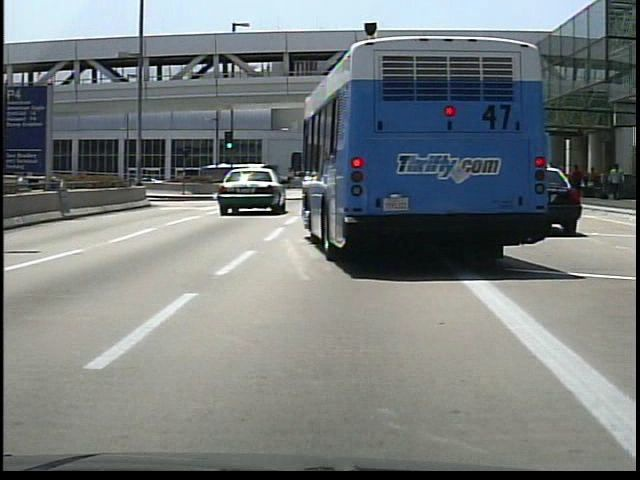person: (607, 165, 626, 201), (588, 166, 600, 202), (570, 164, 583, 184), (284, 173, 295, 192)
